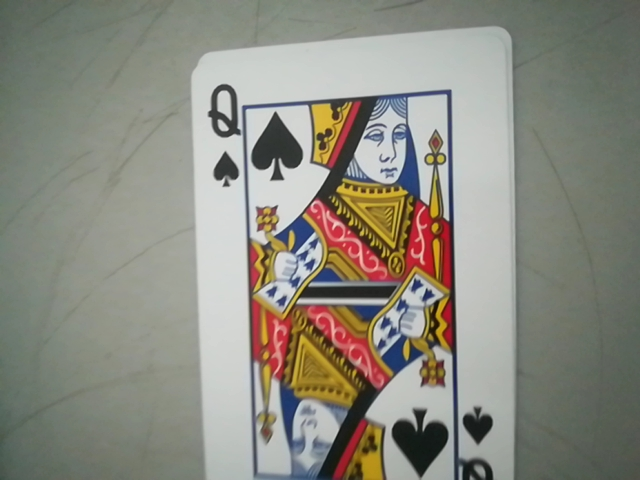ht q: (197, 68, 249, 185)
